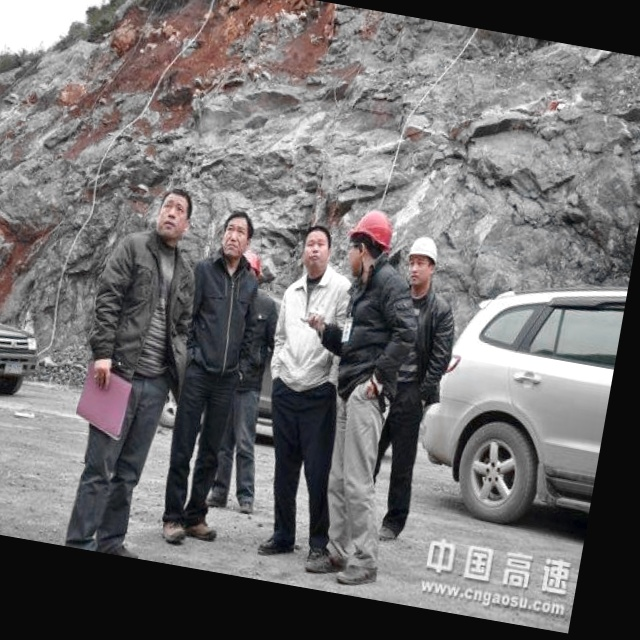Con_Casco: (339, 206, 395, 281), (404, 235, 442, 291)
Sin_Casco_Mascarrilla: (153, 185, 201, 249), (218, 208, 258, 260)
